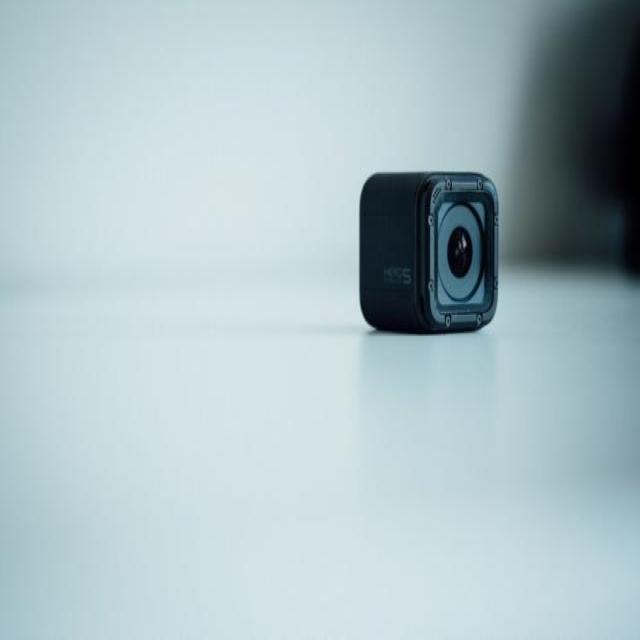hidden camera: (430, 189, 503, 321)
